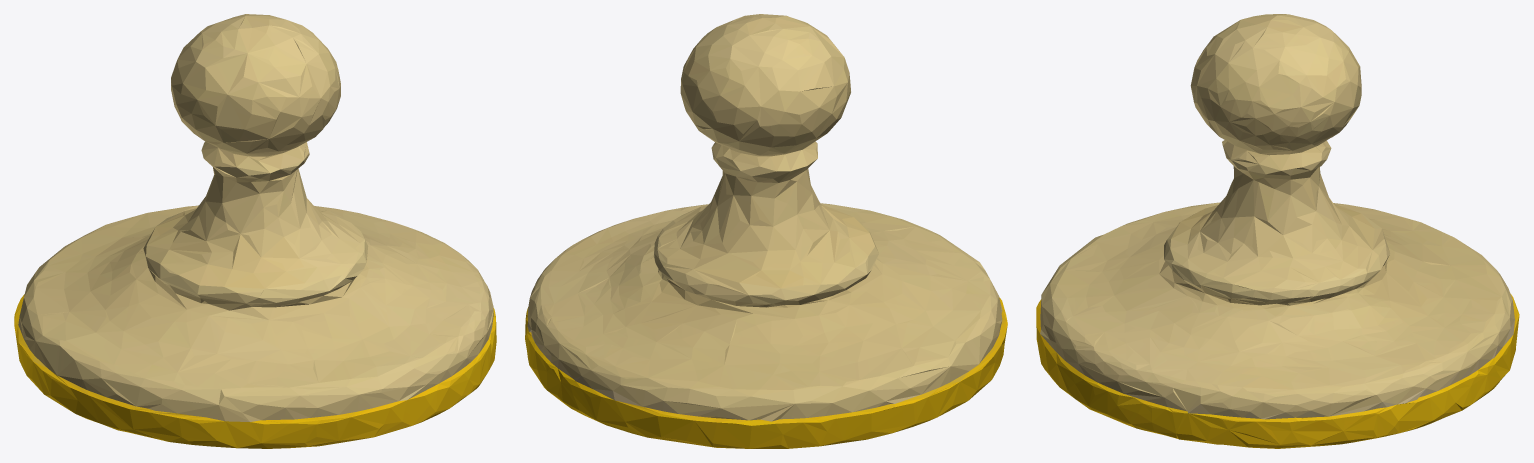
File: pawn_classic_you.glb
The picture shows the model from 3 angles, left to right: view 1: azimuth 30°, elevation 25°; view 2: azimuth 150°, elevation 25°; view 3: azimuth 270°, elevation 25°; orthographic projection.
Parts seen in each view (by area): view 1: geometry_0; view 2: geometry_0; view 3: geometry_0.
Boxes of the visible parts, x1=… form: geometry_0: x1=14, y1=14, x2=496, y2=448; geometry_0: x1=525, y1=14, x2=1007, y2=448; geometry_0: x1=1036, y1=14, x2=1519, y2=448.
Bounding box in the file's own units: 0.032 × 0.024 × 0.032.
Materials: 1 (1 with a texture image).
